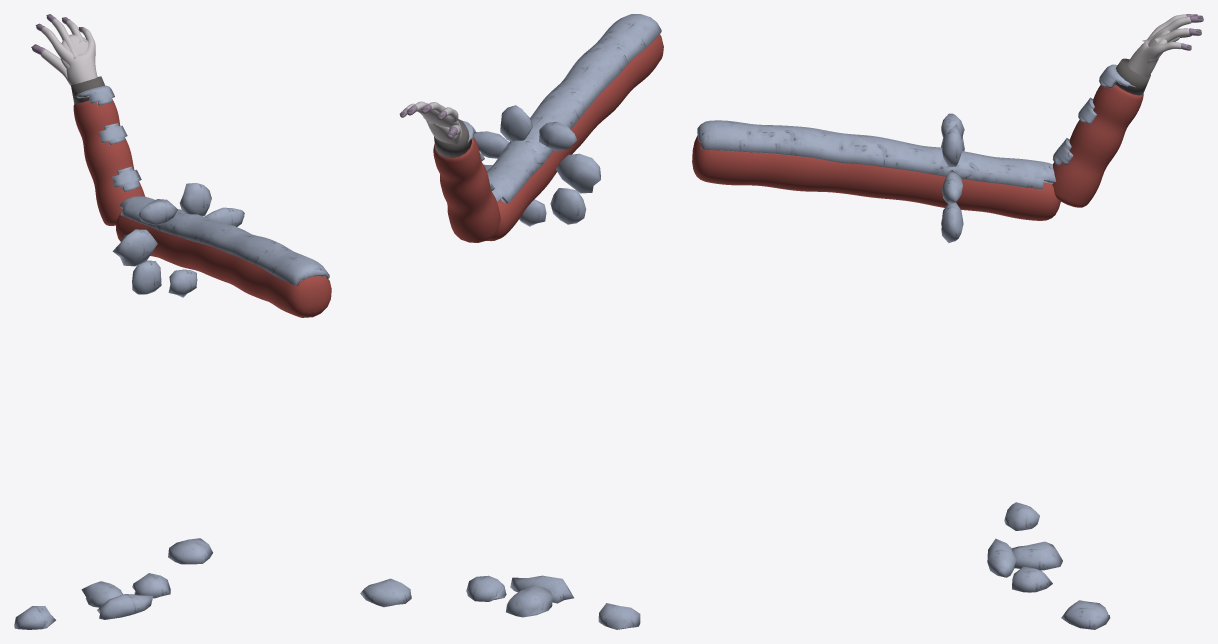
Rendered from buried_arm.glb.
3 renders of one model, left to right at view 1: azimuth 30°, elevation 25°; view 2: azimuth 150°, elevation 25°; view 3: azimuth 270°, elevation 25°, orthographic. The views are drawn at different scales.
Visible parts, largest first — view 1: BuriedArm; view 2: BuriedArm; view 3: BuriedArm.
Boxes of the visible parts, x1,y1,x2,y2 form: BuriedArm: (14, 14, 331, 629); BuriedArm: (360, 14, 663, 629); BuriedArm: (692, 14, 1203, 629).
Bounding box in the file's own units: 0.7643 × 1.67 × 1.39.
6 materials, 1 textured.
